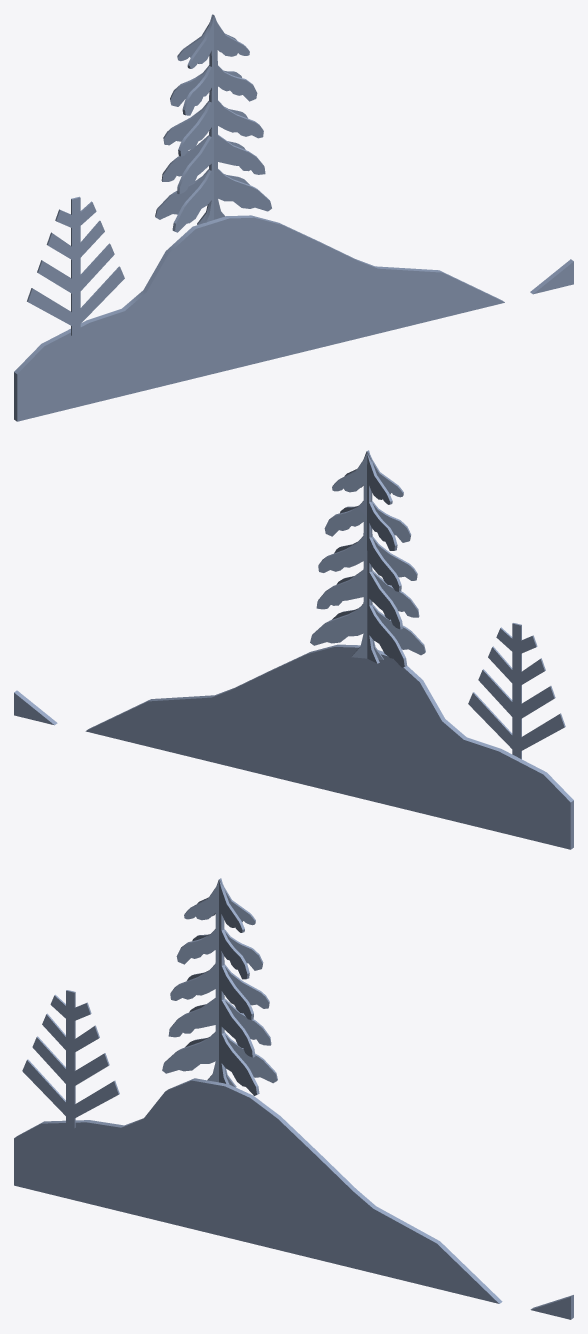
The model's file is frame_0123.glb.
3 views of the same model, one above another, from view 1: azimuth 30°, elevation 25°; view 2: azimuth 150°, elevation 25°; view 3: azimuth 330°, elevation 25° (orthographic).
Parts seen in each view (by area): view 1: export_trees_001.002; view 2: export_trees_001.002; view 3: export_trees_001.002.
Boxes of the visible parts, left/top/right/bottom form: export_trees_001.002: left=14, top=14, right=573, bottom=421; export_trees_001.002: left=14, top=450, right=573, bottom=849; export_trees_001.002: left=14, top=878, right=573, bottom=1319.
Size of the model in its own units: 0.4327 by 0.2619 by 0.0288.
